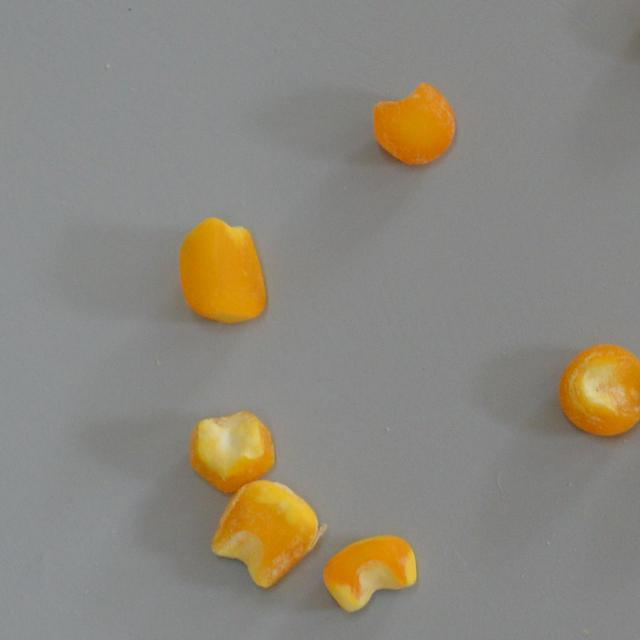no_canjicado: (180, 216, 266, 322), (323, 534, 418, 614)
pelicula: (209, 478, 320, 588), (558, 342, 640, 439), (371, 82, 456, 166), (191, 410, 274, 494)
